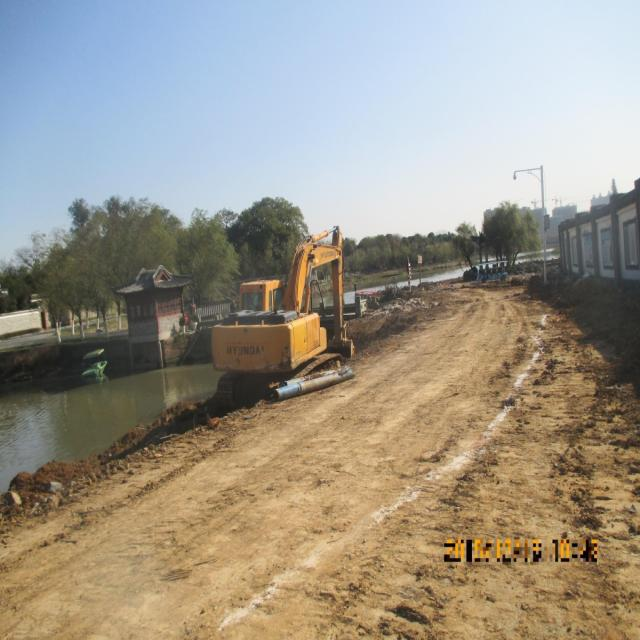excavator: (211, 226, 355, 411)
